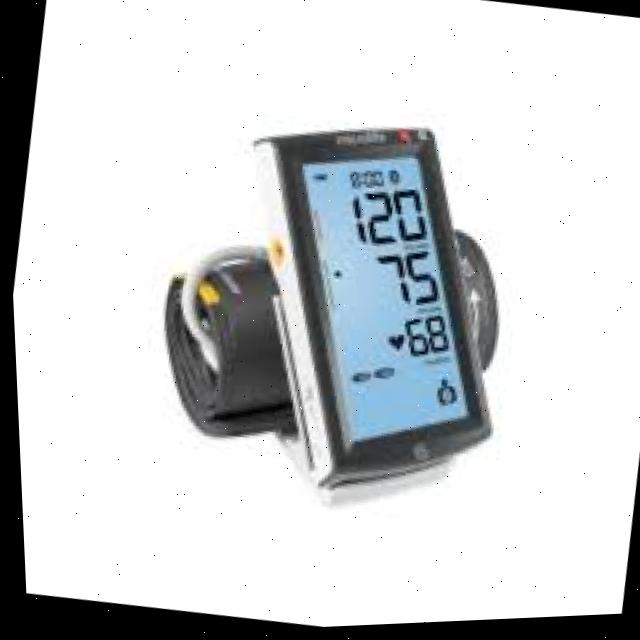dia: (364, 242, 444, 325)
pul: (390, 314, 456, 370)
ssd: (298, 147, 465, 445)
sys: (338, 187, 437, 252)
